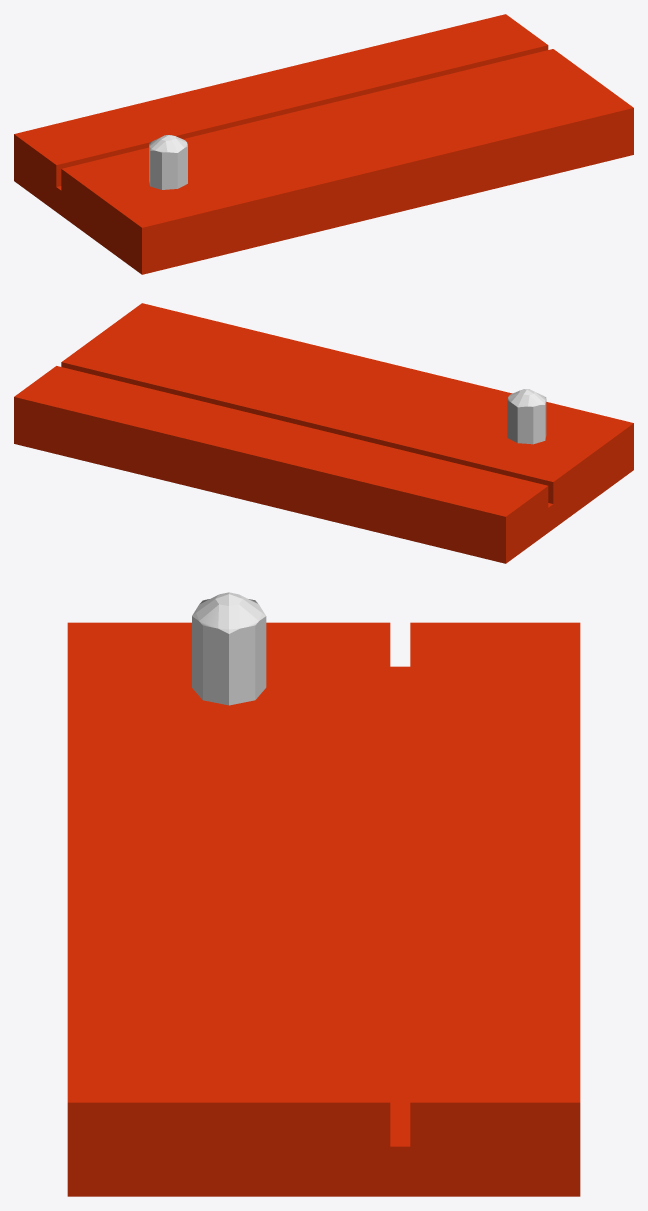
Rendered from Lector de tarjetas.fbx.
3 views of the same model, one above another, from view 1: azimuth 30°, elevation 25°; view 2: azimuth 150°, elevation 25°; view 3: azimuth 270°, elevation 25° (orthographic). The views are drawn at different scales.
Parts seen in each view (by area): view 1: Cube; view 2: Cube; view 3: Cube.
Part boxes in pixels (bbox=[...]): Cube: bbox=[14, 14, 633, 274]; Cube: bbox=[14, 303, 633, 563]; Cube: bbox=[67, 592, 580, 1196].
Size of the model in its own units: 133 by 24.16 by 59.83.
